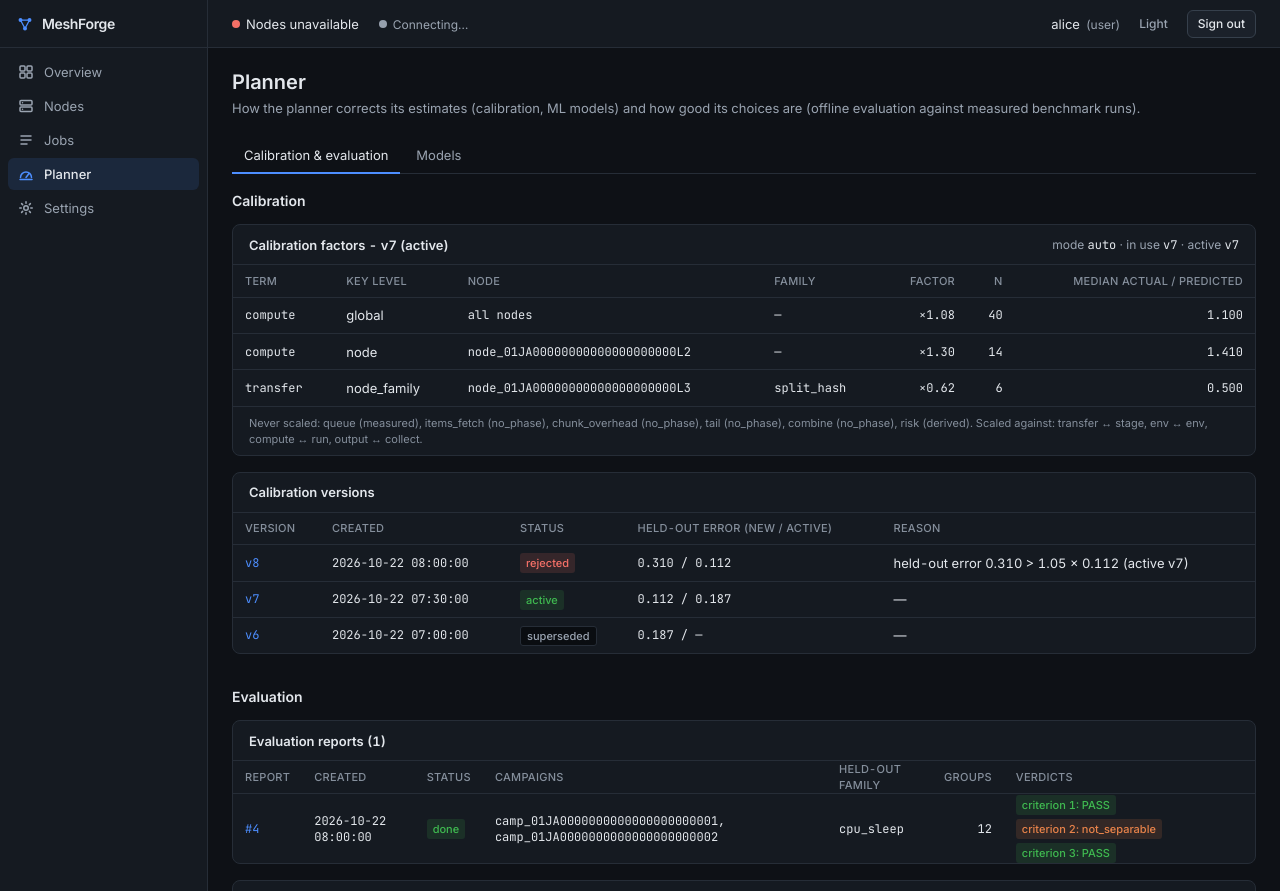
Test: Planner page › opens another calibration version from the history (and keeps it in the URL)
The width and height of the screenshot is (1280, 891).
Expected: the table named "Calibration factors of version 7" is shown, left=233, top=265, right=1255, bottom=406
What coordinates should you click on to do the following:
click the button "v8"
I would click on:
 (252, 563)
Its box is left=245, top=555, right=259, bottom=571.
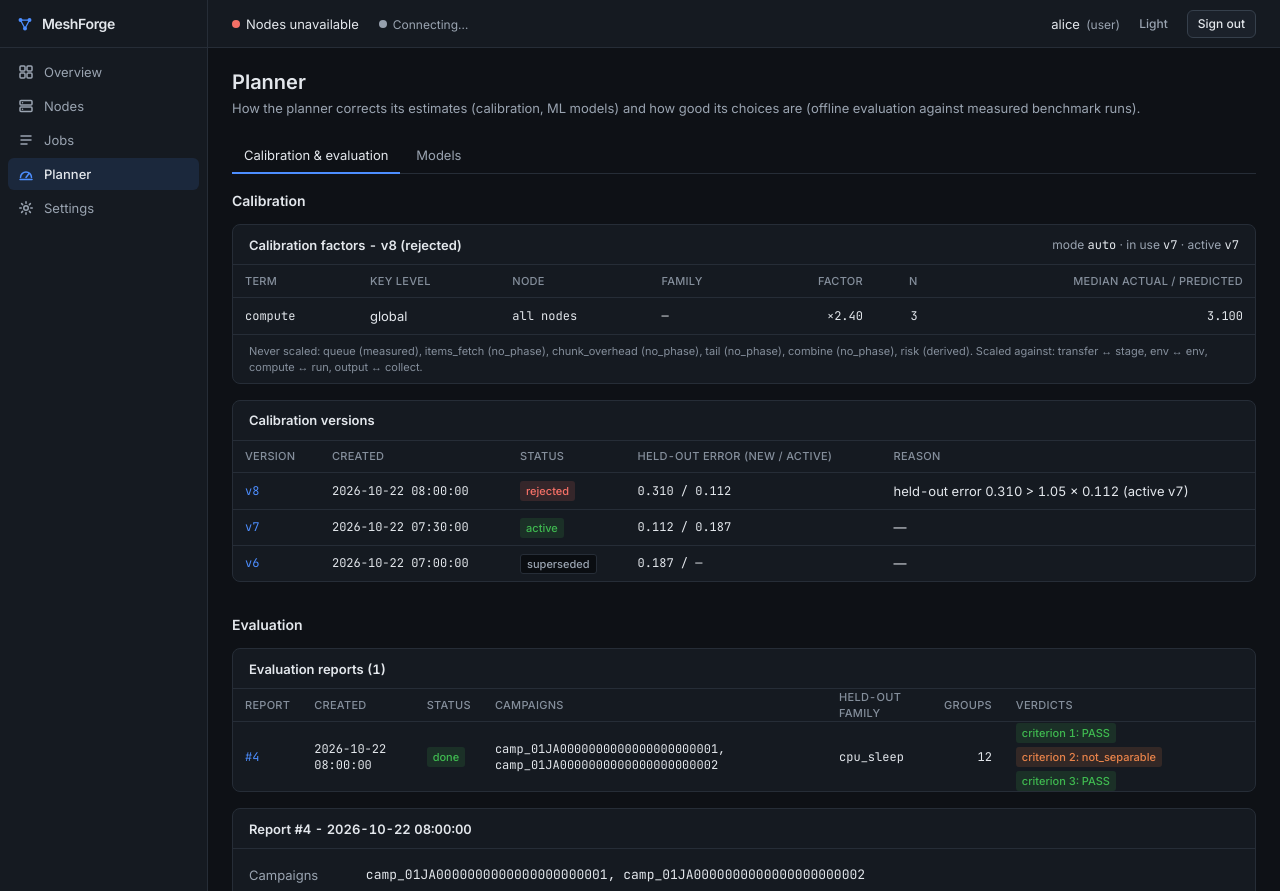
Now the table named "Calibration factors of version 8" shows "×2.40", box left=827, top=308, right=863, bottom=324
